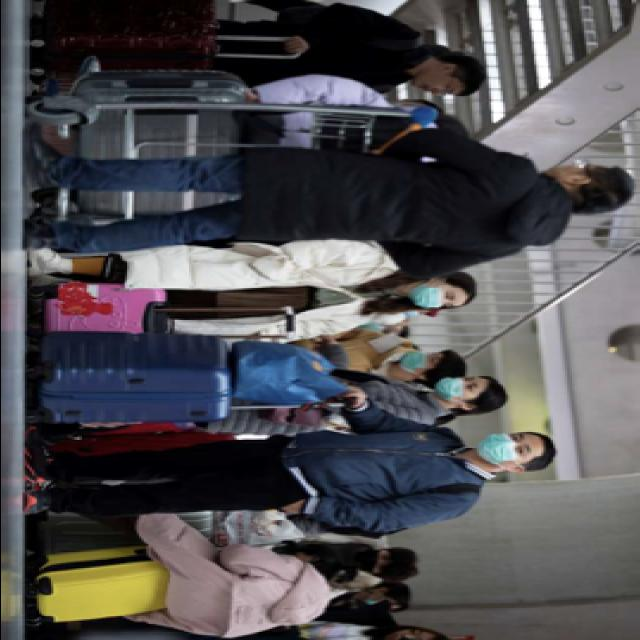mask: (478, 432, 538, 467), (412, 283, 459, 312), (438, 376, 483, 403), (357, 549, 395, 576), (400, 352, 445, 374)
no_mask: (416, 74, 459, 98), (550, 162, 594, 176), (383, 629, 431, 640)
